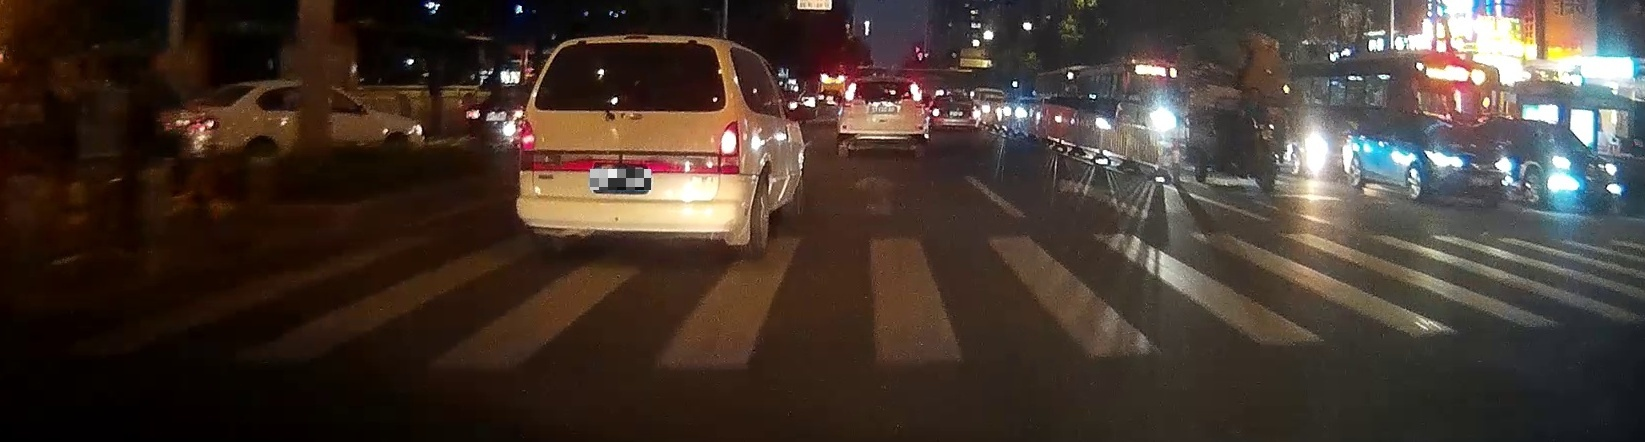L_light: (519, 121, 536, 151), (843, 83, 856, 101)
R_light: (721, 121, 739, 157), (910, 84, 922, 101)
T_light: (621, 43, 649, 50), (876, 83, 891, 86)
night-no: (837, 77, 930, 157)
night-right: (515, 35, 740, 257)
plate_1: (590, 169, 651, 190)
